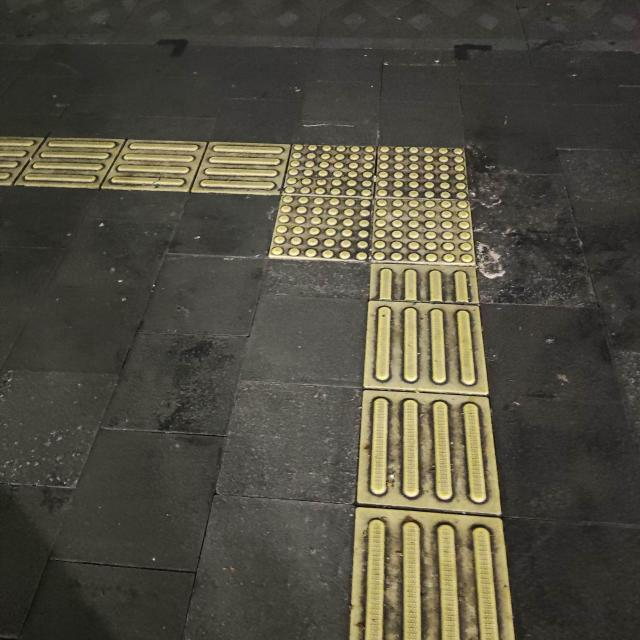kiri: (124, 104, 565, 352)
